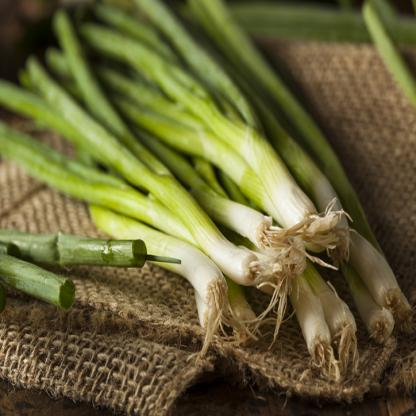green onion: (0, 19, 283, 337), (190, 0, 410, 355), (91, 7, 354, 276), (0, 201, 177, 321)
